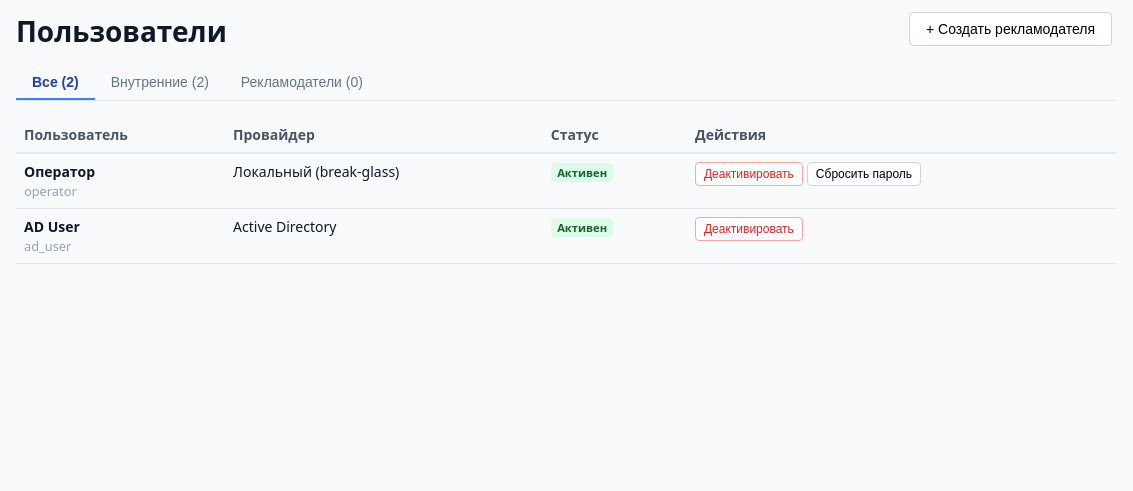
Test: UsersPage — deactivate › opens confirmation modal with target username
Click the button with test id "user-deactivate-open-u2": (749, 174) [695, 162, 803, 186]
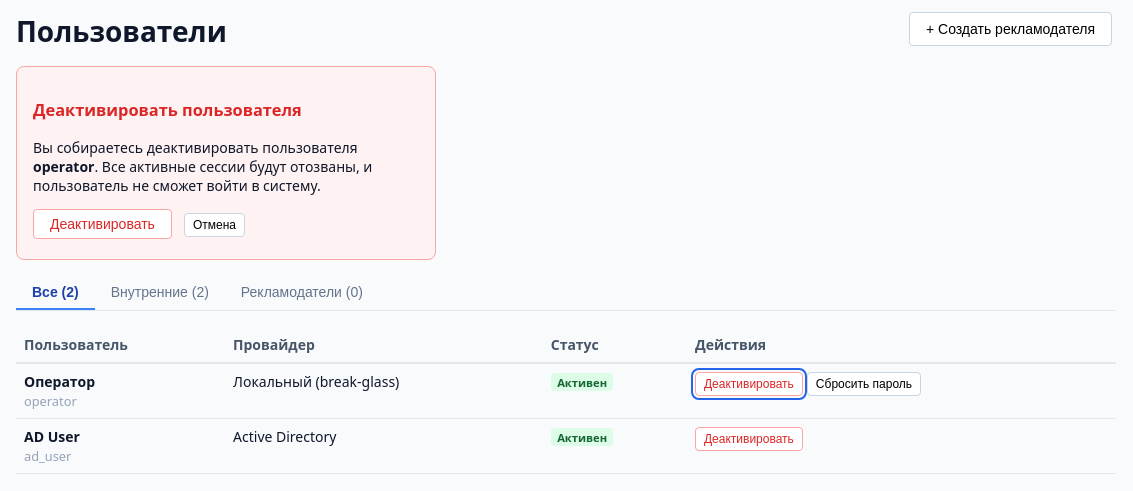
Result: the button with test id "user-deactivate-confirm" is shown at [33, 209, 172, 239]
